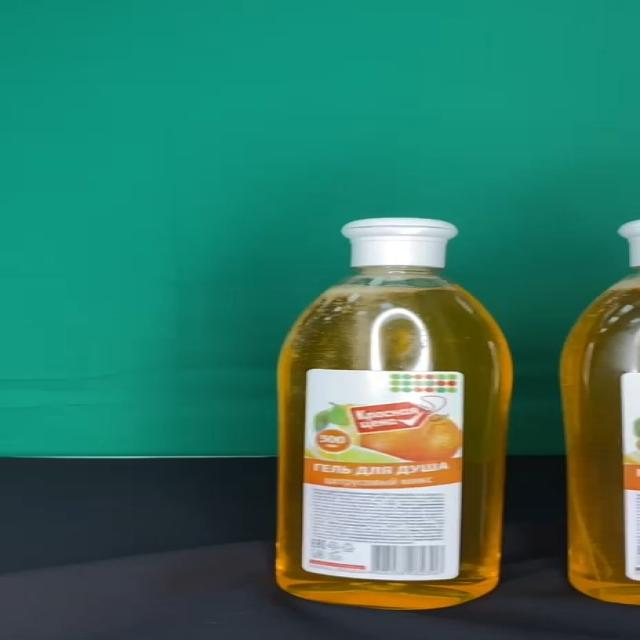Bottle: (276, 217, 515, 609)
Cap: (338, 217, 458, 268)
